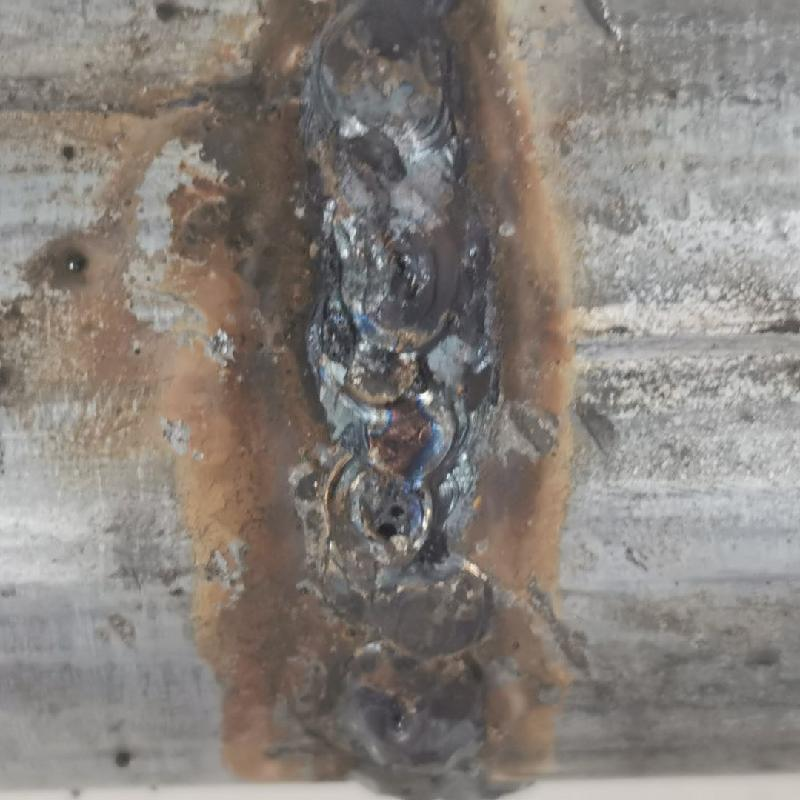Surface_pores: (367, 495, 417, 546)
crater: (298, 212, 482, 566)
wrong_size: (313, 570, 498, 799), (295, 1, 478, 210)
